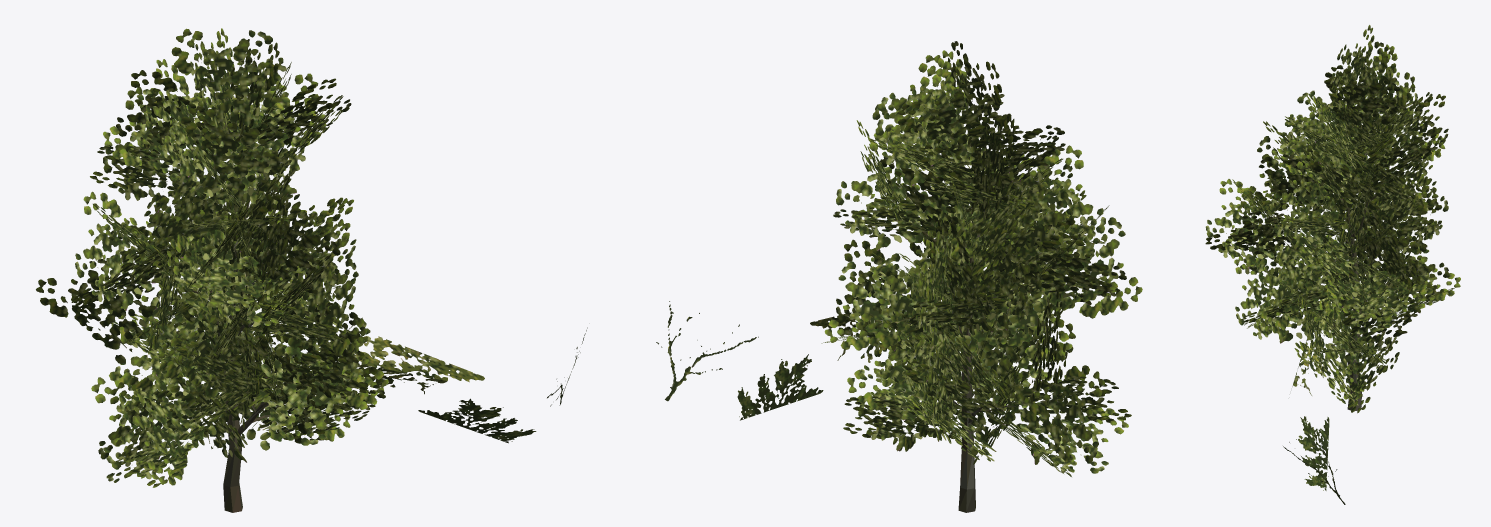
Rendered from laubbaum_07.glb.
3 renders of one model, left to right at view 1: azimuth 30°, elevation 25°; view 2: azimuth 150°, elevation 25°; view 3: azimuth 270°, elevation 25°, orthographic. The views are drawn at different scales.
Parts seen in each view (by area): view 1: laub, rinde; view 2: laub, rinde; view 3: laub, rinde.
Boxes of the visible parts, x1,y1,x2,y2 form: laub: (36,28,587,487); rinde: (187,122,286,512); laub: (656,41,1142,476); rinde: (915,146,1034,512); laub: (1205,25,1460,504); rinde: (1307,111,1385,410).
Size of the model in its own units: 10.34 by 9 by 6.25.
2 materials, 1 textured.
